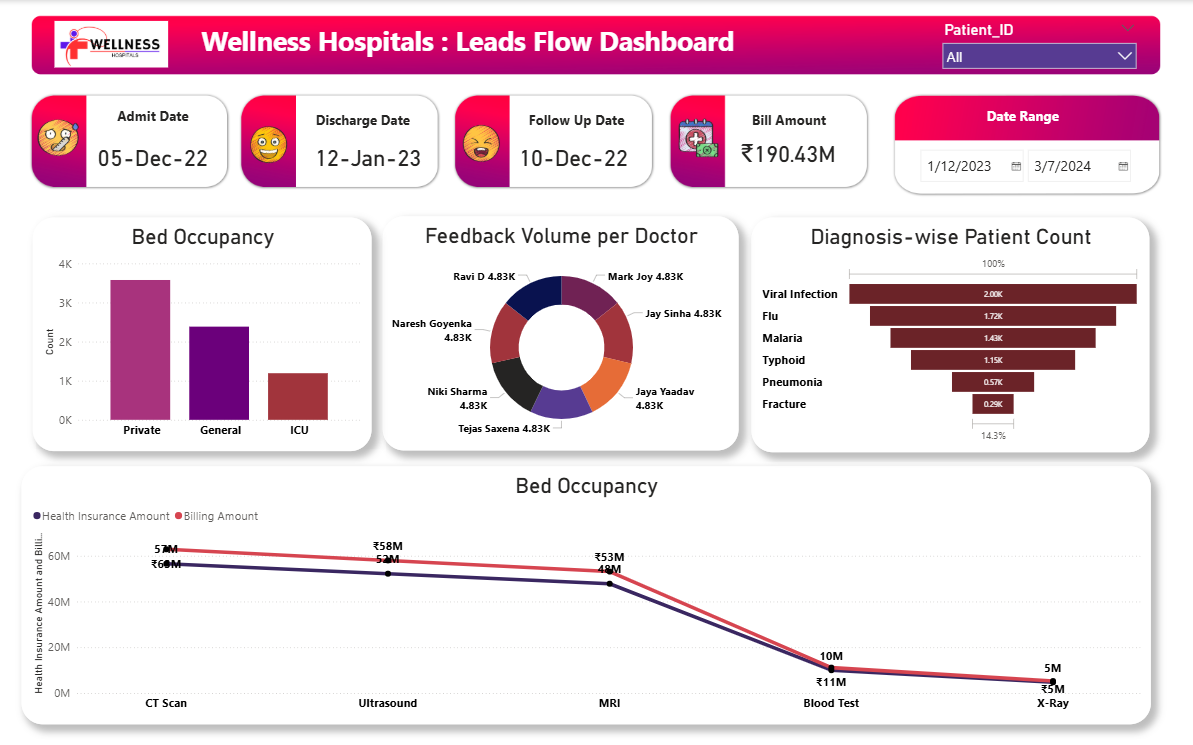

The dashboard page shown, as its layout file describes it:
{"tool":"powerbi","page":{"name":"Page 2","canvas":[1680,1050],"ordinal":0},"visuals":[{"type":"textbox","box":[279.7,26.4,809.3,75.7],"z":0},{"type":"image","box":[2636.7,100,623.3,150],"z":1000},{"type":"slicer","fields":{"Values":["Sheet1.Patient_ID"]},"box":[2400,373.3,793.3,420],"z":2000},{"type":"card","fields":{"Values":["Min(Sheet1.Admit_Date)"]},"box":[437.6,198.8,162.9,42.8],"z":3000},{"type":"card","fields":{"Values":["Min(Sheet1.Discharge_Date)"]},"box":[129.8,198.8,172.6,42.8],"z":4000},{"type":"card","fields":{"Values":["Min(Sheet1.Followup Date)"]},"box":[724.3,198.6,167.1,42.9],"z":5000},{"type":"textbox","box":[152.9,145.7,127.1,57.1],"z":6000},{"type":"textbox","box":[437.1,151.4,151.4,37.1],"z":7000},{"type":"textbox","box":[732.9,151.4,158.6,37.1],"z":8000},{"type":"textbox","box":[1035.7,151.4,151.4,37.1],"z":9000},{"type":"card","fields":{"Values":["Sum(Sheet1.Billing Amount)"]},"box":[1031.4,194.3,158.6,42.9],"z":10000},{"type":"image","box":[50,157.1,68.6,74.3],"z":11000},{"type":"image","box":[348.6,172.9,62.9,62.9],"z":12000},{"type":"image","box":[640,171.4,77.1,62.9],"z":13000},{"type":"image","box":[951.4,158.6,65.7,71.4],"z":14000},{"type":"columnChart","title":"Bed Occupancy","fields":{"Category":["Sheet1.Bed_Occupancy"],"Y":["CountNonNull(Sheet1.Bed_Occupancy)"]},"box":[47.1,305.7,477.1,328.6],"z":15000},{"type":"donutChart","title":"Feedback Volume per Doctor","fields":{"Category":["Sheet1.Doctor"],"Y":["Sum(Sheet1.Feedback)"]},"box":[540.2,305.2,501,329.5],"z":16000},{"type":"funnel","title":"Diagnosis-wise Patient Count","fields":{"Category":["Sheet1.Diagnosis"],"Y":["CountNonNull(Sheet1.Diagnosis)"]},"box":[1060,305.7,560,330],"z":17000},{"type":"lineChart","title":"Bed Occupancy","fields":{"Y":["Sum(Sheet1.Health Insurance Amount)","Sum(Sheet1.Billing Amount)"],"Category":["Sheet1.Test"]},"box":[31.1,656.3,1589.5,363.3],"z":18000},{"type":"slicer","fields":{"Values":["Sheet1.Admit_Date"]},"box":[1284.3,201.2,360.6,68.9],"z":19000},{"type":"slicer","fields":{"Values":["Sheet1.Patient_ID"]},"box":[1317.1,24.3,292.9,82.9],"z":20000},{"type":"textbox","box":[1365.7,145.7,151.4,37.1],"z":21000},{"type":"image","box":[31.7,24.6,253.4,75.7],"z":22000}]}

Visuals, with their boxes in screenshot pixels (x1, y1, x2, y2), scaled from the page's 1680x1050 canvas onto the 1193x745 screenshot:
textbox: 199:19:773:72
card - Min(Sheet1.Admit_Date): 311:141:426:171
card - Min(Sheet1.Discharge_Date): 92:141:215:171
card - Min(Sheet1.Followup Date): 514:141:633:171
textbox: 109:103:199:144
textbox: 310:107:418:134
textbox: 520:107:633:134
textbox: 735:107:843:134
card - Sum(Sheet1.Billing Amount): 732:138:845:168
image: 36:111:84:164
image: 248:123:292:167
image: 454:122:509:166
image: 676:113:722:163
"Bed Occupancy" columnChart: 33:217:372:450
"Feedback Volume per Doctor" donutChart: 384:217:739:450
"Diagnosis-wise Patient Count" funnel: 753:217:1150:451
"Bed Occupancy" lineChart: 22:466:1151:723
slicer - Sheet1.Admit_Date: 912:143:1168:192
slicer - Sheet1.Patient_ID: 935:17:1143:76
textbox: 970:103:1077:130
image: 23:17:202:71
